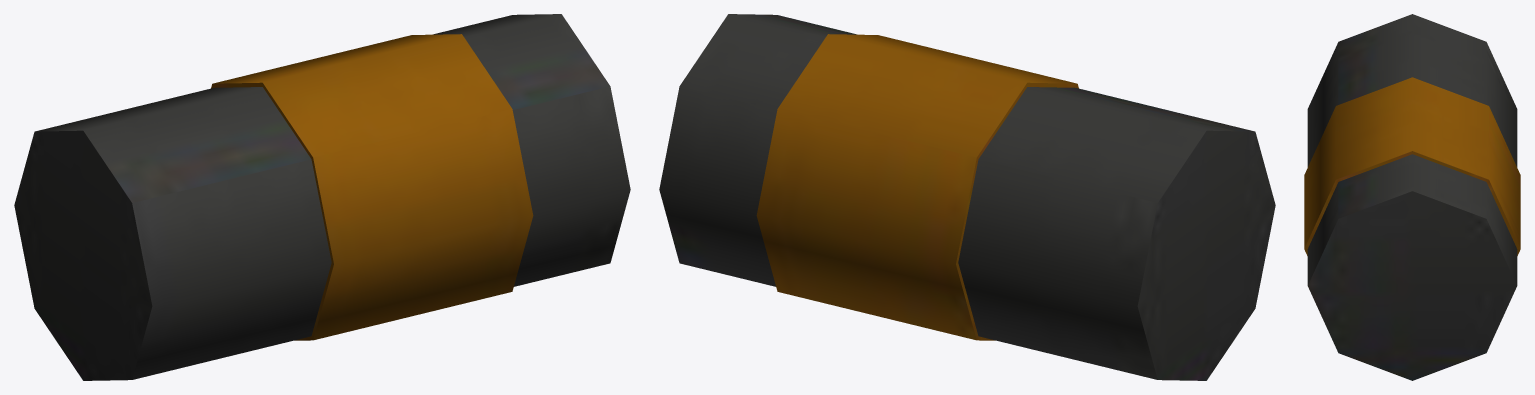
Rendered from rocket-fuel.glb.
3 renders of one model, left to right at view 1: azimuth 30°, elevation 25°; view 2: azimuth 150°, elevation 25°; view 3: azimuth 270°, elevation 25°, orthographic. The views are drawn at different scales.
Visible parts, largest first — view 1: rocket-fuel; view 2: rocket-fuel; view 3: rocket-fuel.
Boxes of the visible parts, <box> form: rocket-fuel: <box>14,14,630,380</box>; rocket-fuel: <box>659,14,1275,380</box>; rocket-fuel: <box>1304,14,1520,380</box>.
Bounding box in the file's own units: 0.24 × 0.124 × 0.124.
1 material, 1 textured.
